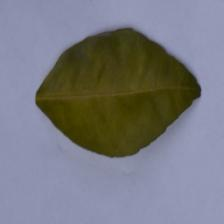greening: (30, 71, 164, 155)
